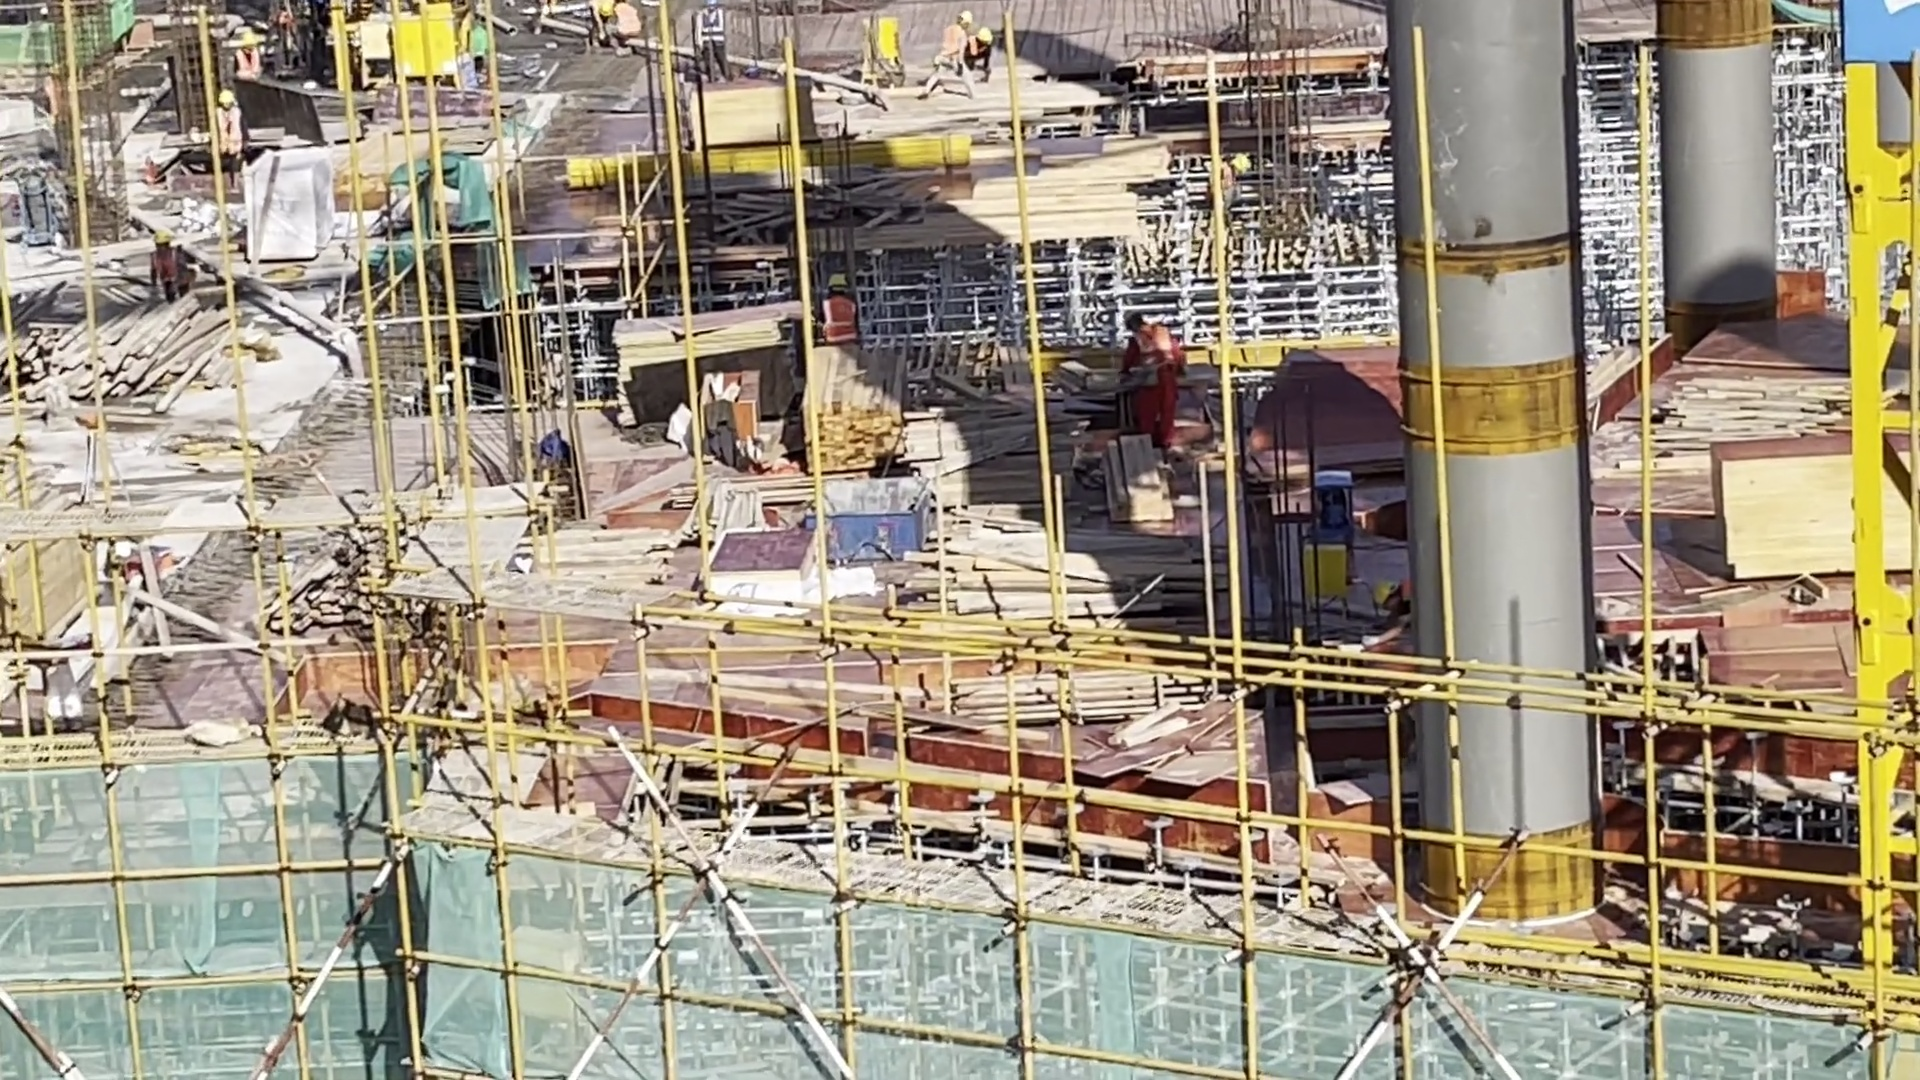board: (1133, 681, 1254, 789)
ebox: (1286, 548, 1354, 618)
helmet: (1231, 148, 1253, 187), (954, 9, 981, 32), (1118, 310, 1145, 332), (972, 28, 996, 52), (234, 29, 258, 52), (149, 231, 167, 253), (829, 273, 847, 292), (218, 91, 235, 110)
hopper: (812, 479, 923, 567)
person: (1109, 306, 1189, 445), (683, 2, 738, 82), (923, 9, 974, 94), (147, 228, 195, 300), (203, 92, 246, 173), (813, 267, 859, 341), (226, 24, 267, 79), (965, 28, 993, 72)
vest: (1125, 328, 1177, 388), (820, 296, 852, 337), (151, 247, 182, 282), (214, 113, 237, 154)
wood: (915, 497, 1143, 619), (1645, 344, 1834, 457), (48, 309, 210, 402), (956, 667, 1186, 731)
